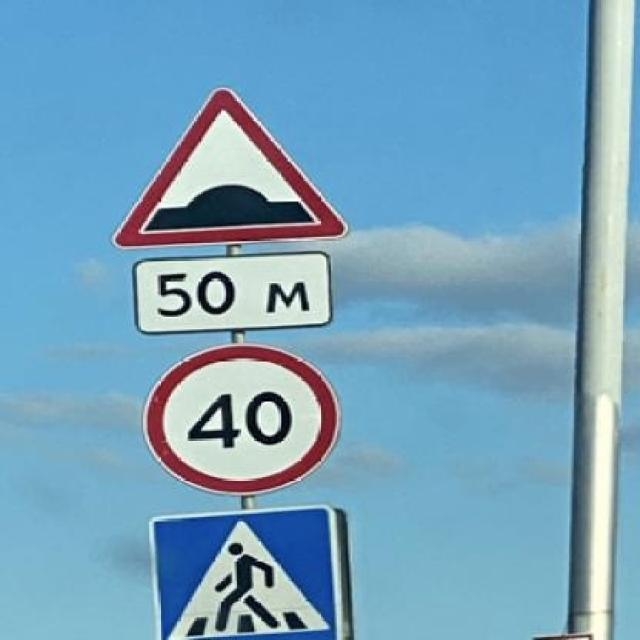forb_speed_over_40: (153, 341, 338, 494)
